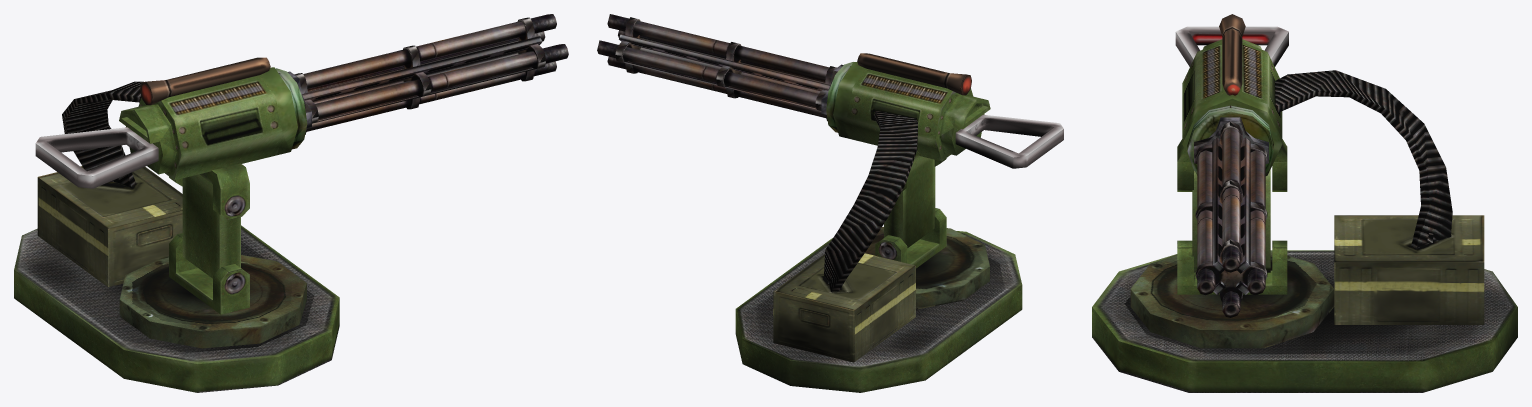
Rendered from weapon1.obj.
3 views of the same model, side by side, from view 1: azimuth 30°, elevation 25°; view 2: azimuth 150°, elevation 25°; view 3: azimuth 270°, elevation 25° (orthographic). The views are drawn at different scales.
Visible parts, largest first — view 1: Group; view 2: Group; view 3: Group.
Part boxes in pixels (x1,y1,x2,y2): Group: (14, 14, 568, 392); Group: (597, 14, 1063, 392); Group: (1092, 14, 1517, 392).
Size of the model in its own units: 87.24 by 45.73 by 61.01.
Materials: 1 (1 with a texture image).
